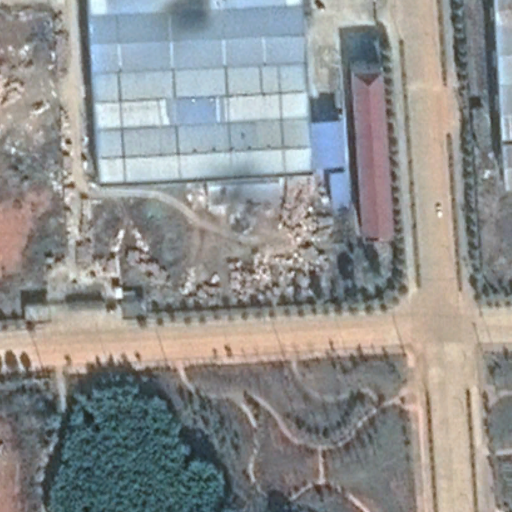msw: (63, 175, 341, 314)
